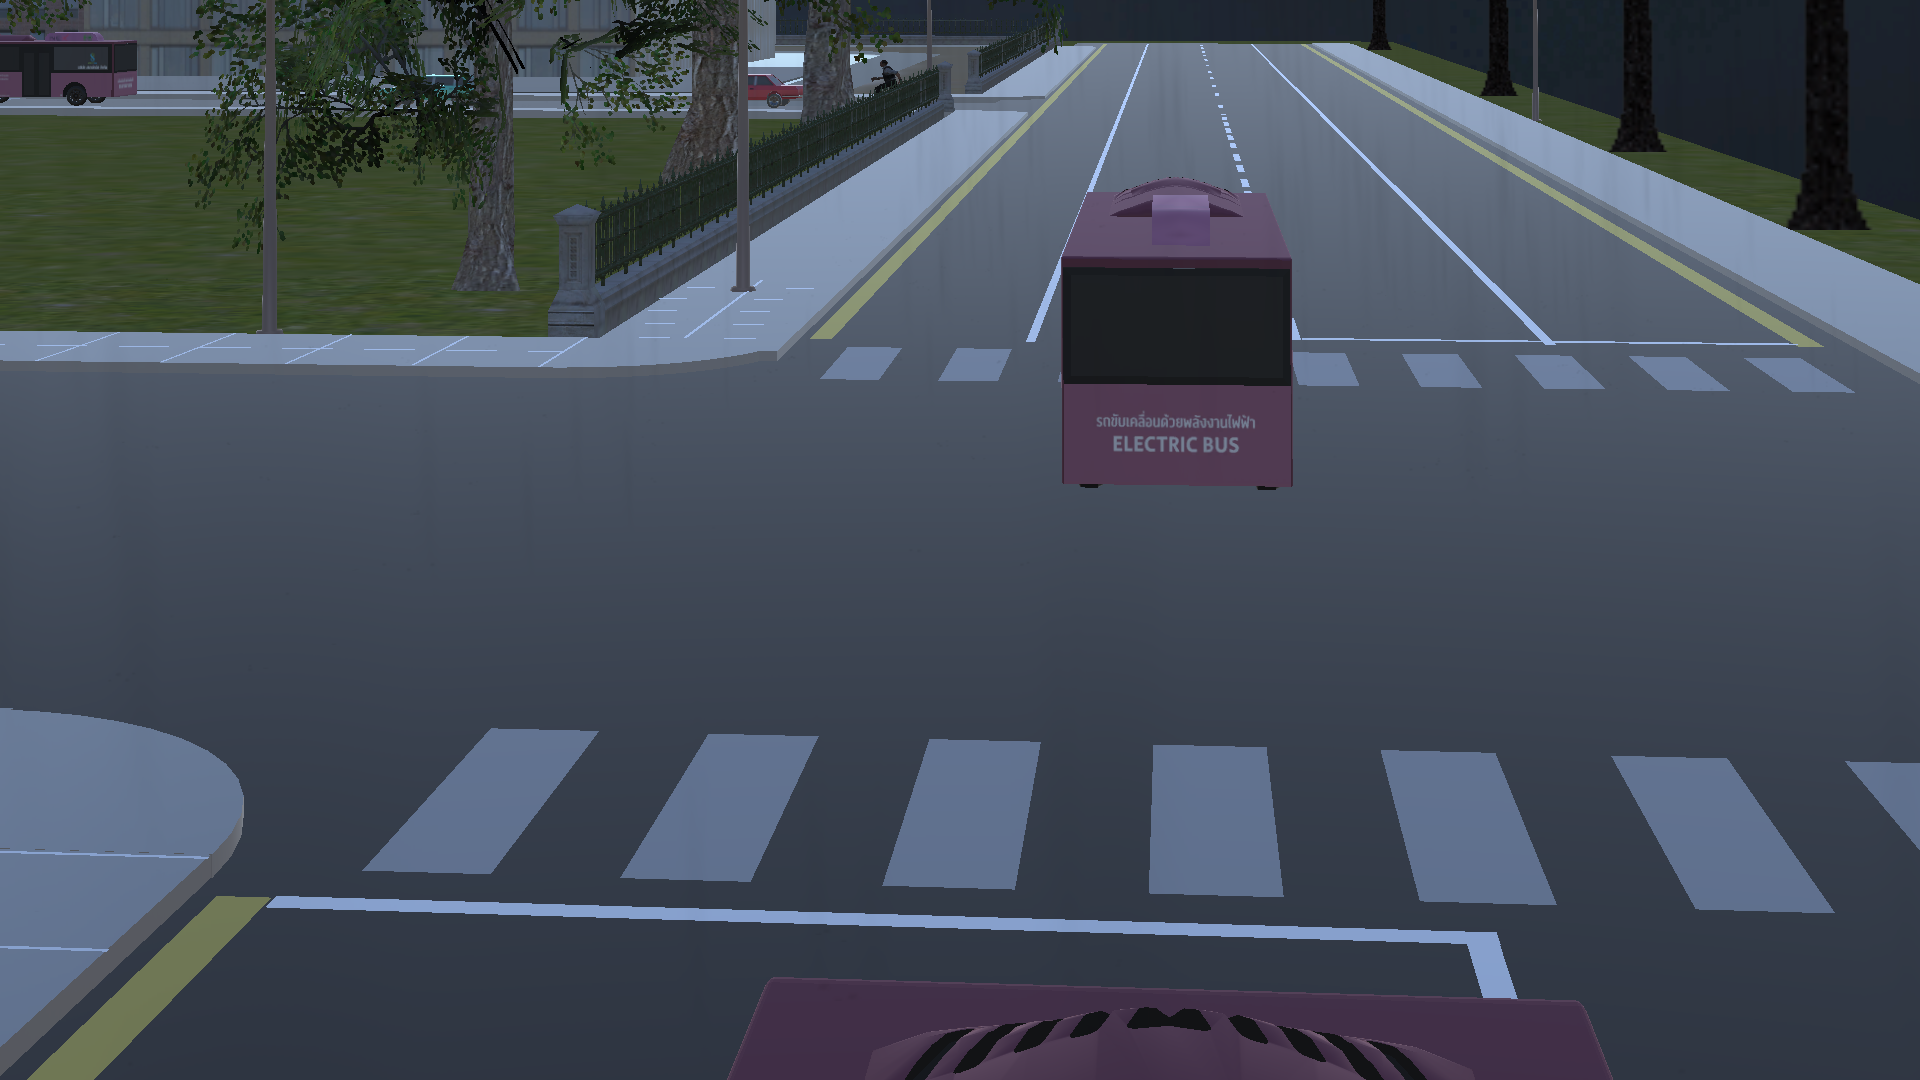pedestrian: (860, 55, 906, 99)
